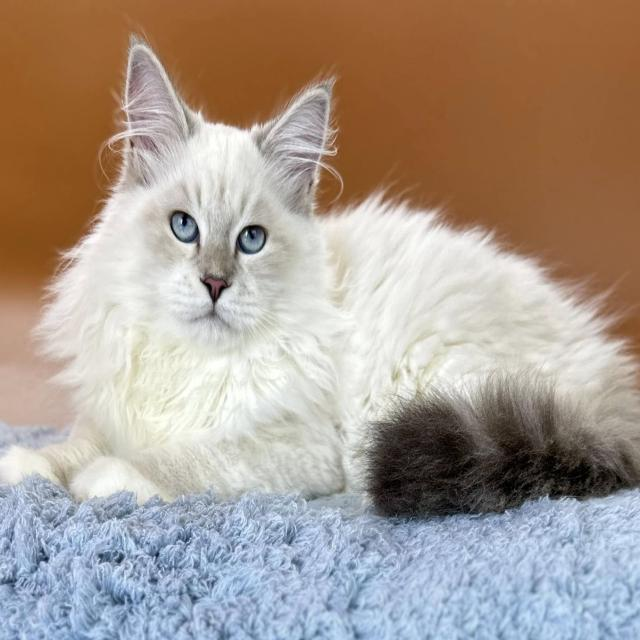Neva Masquerade: (0, 34, 640, 522)
